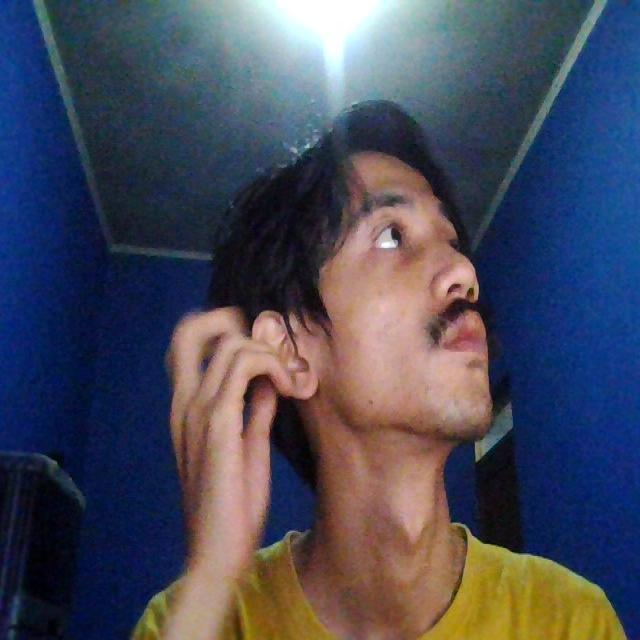melihat kekiri: (172, 156, 538, 446)
movement: (135, 264, 294, 554)
